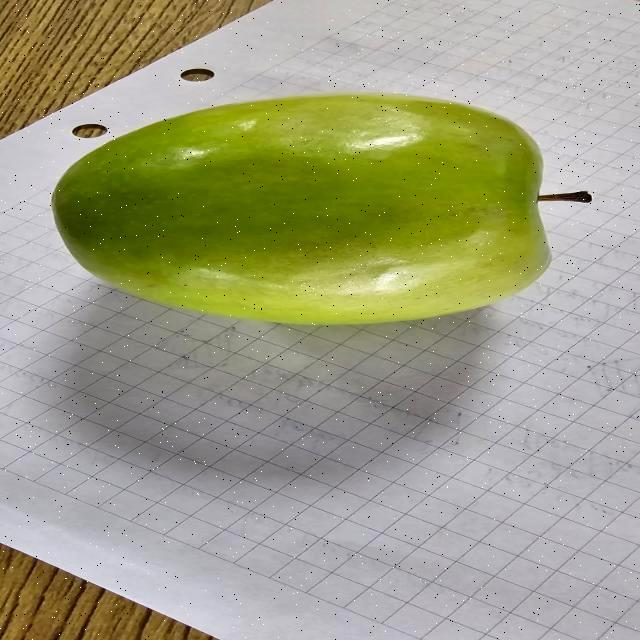Apel Granny Smith: (42, 89, 608, 328)
